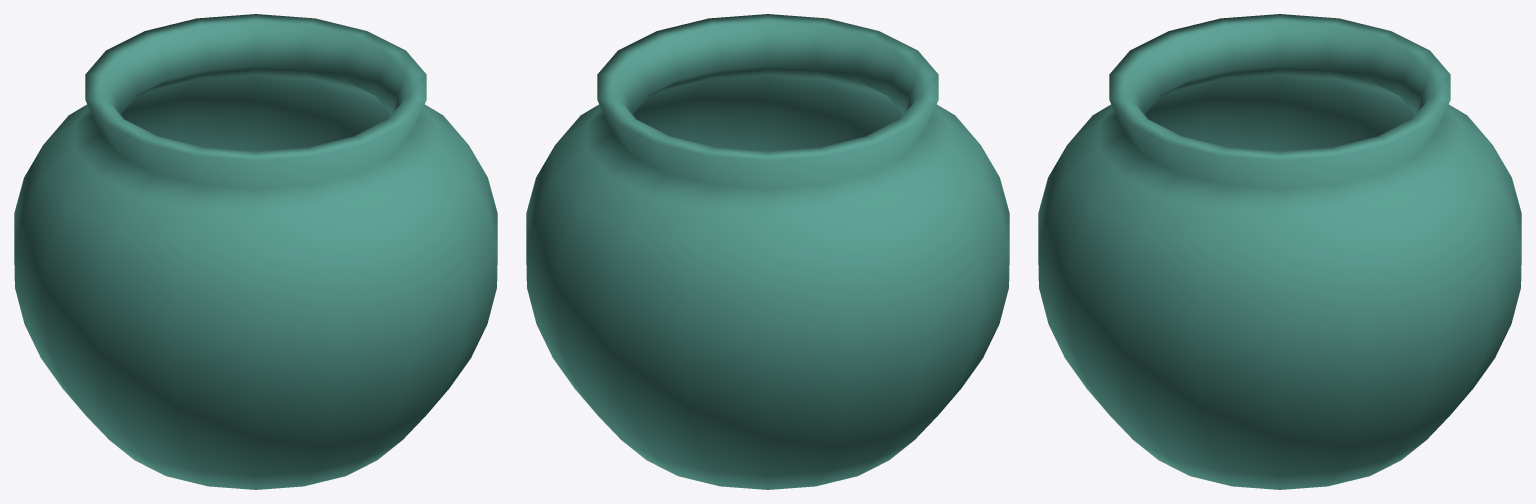
File: vase_sphere.FBX
3 views of the same model, side by side, from view 1: azimuth 30°, elevation 25°; view 2: azimuth 150°, elevation 25°; view 3: azimuth 270°, elevation 25° (orthographic).
Parts seen in each view (by area): view 1: vase_sphere; view 2: vase_sphere; view 3: vase_sphere.
Boxes of the visible parts, bbox=[...] form: vase_sphere: bbox=[14, 14, 497, 489]; vase_sphere: bbox=[526, 14, 1009, 489]; vase_sphere: bbox=[1038, 14, 1521, 489].
Size of the model in its own units: 35.07 by 34.53 by 27.07.
